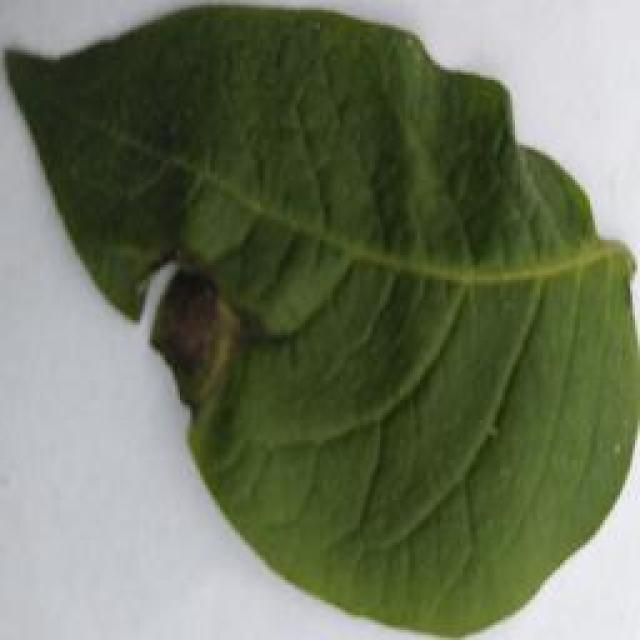Potato_Late_Blight: (3, 12, 619, 632)
